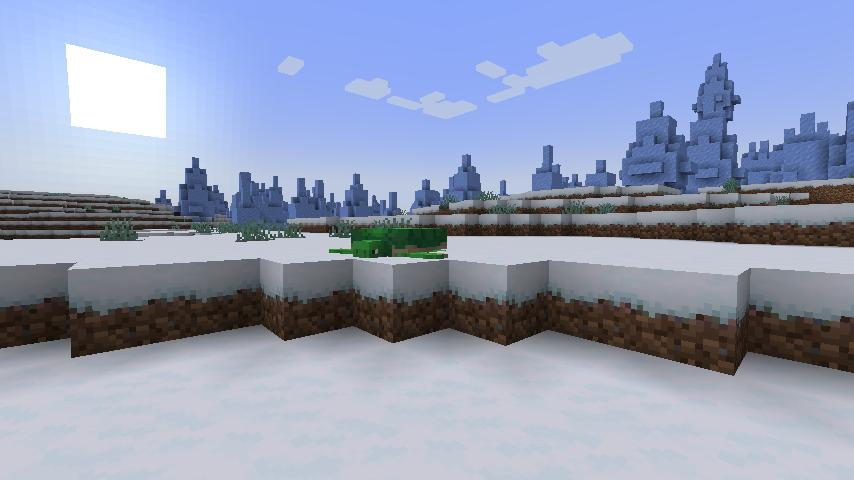turtle: (328, 221, 452, 264)
